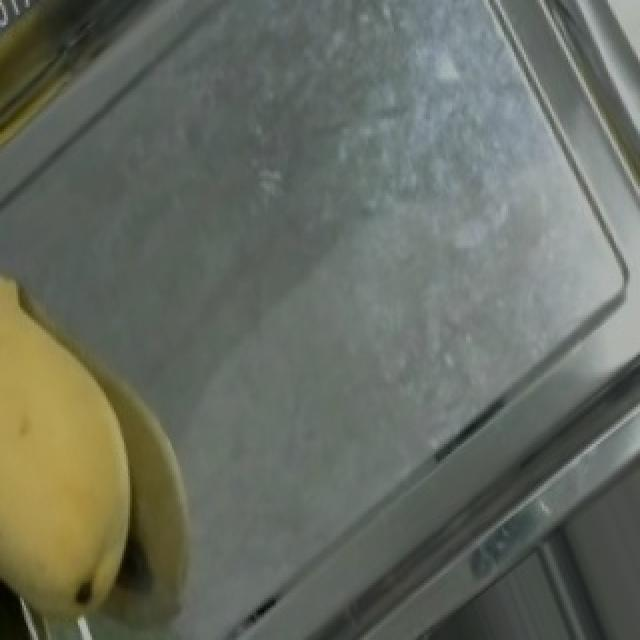fruit: (0, 245, 232, 640)
